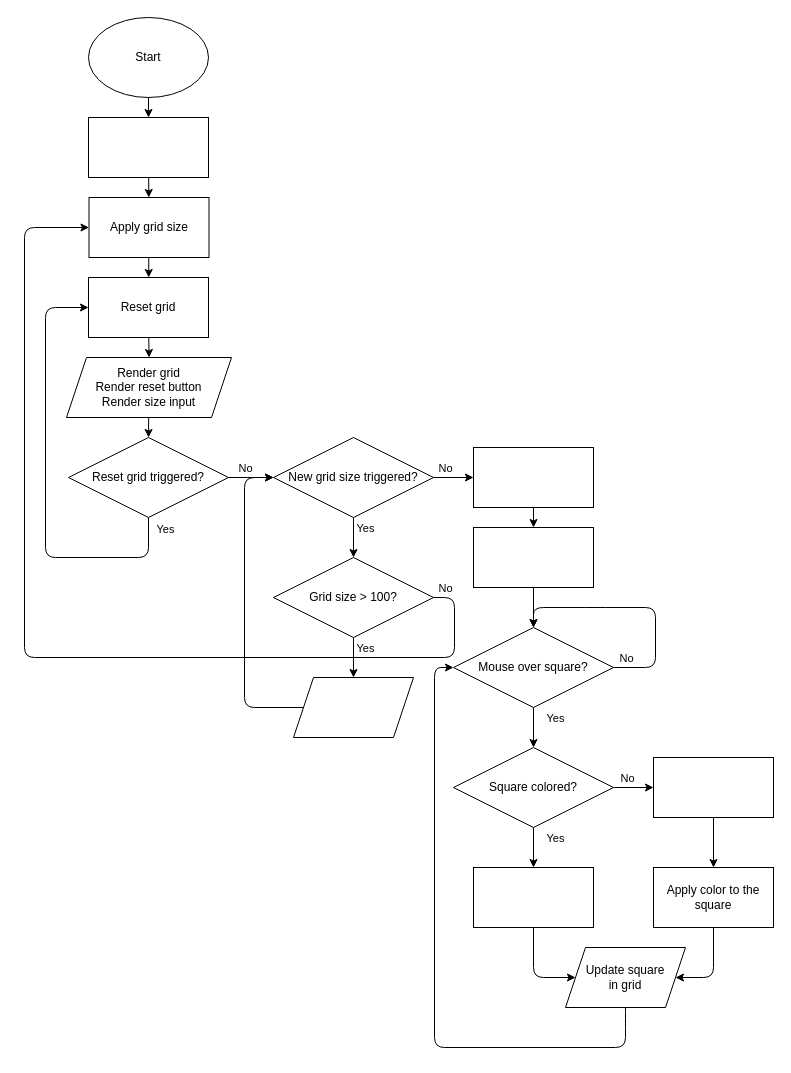
The diagram is 791 pixels wide and 1073 high, and some of its shapes have lost their labels. The centre of each missing label's shape, as x and y in pixels:
"Apply mouse-over event listeners to squares" goes at point 533,557.
"Deepen the color by 10%" goes at point 533,897.
"Generate a random RGB color" goes at point 713,787.
"Inform user that the max. grid size is 100" goes at point 353,707.
"Loop through the squares in grid" goes at point 533,477.
"Set default grid size to 16×16" goes at point 148,147.
